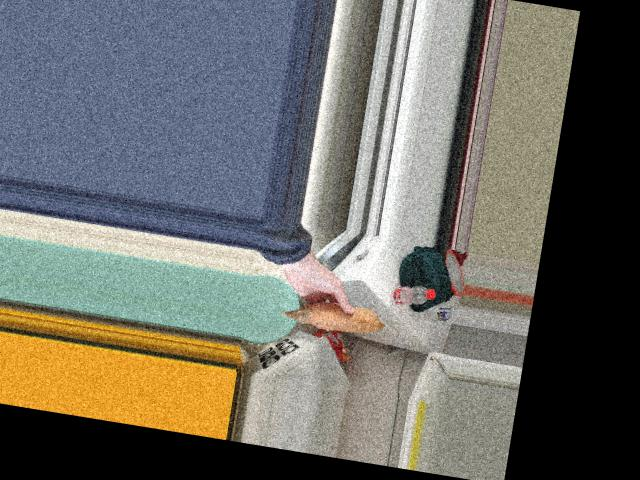sweet_potato: (290, 293, 375, 336)
